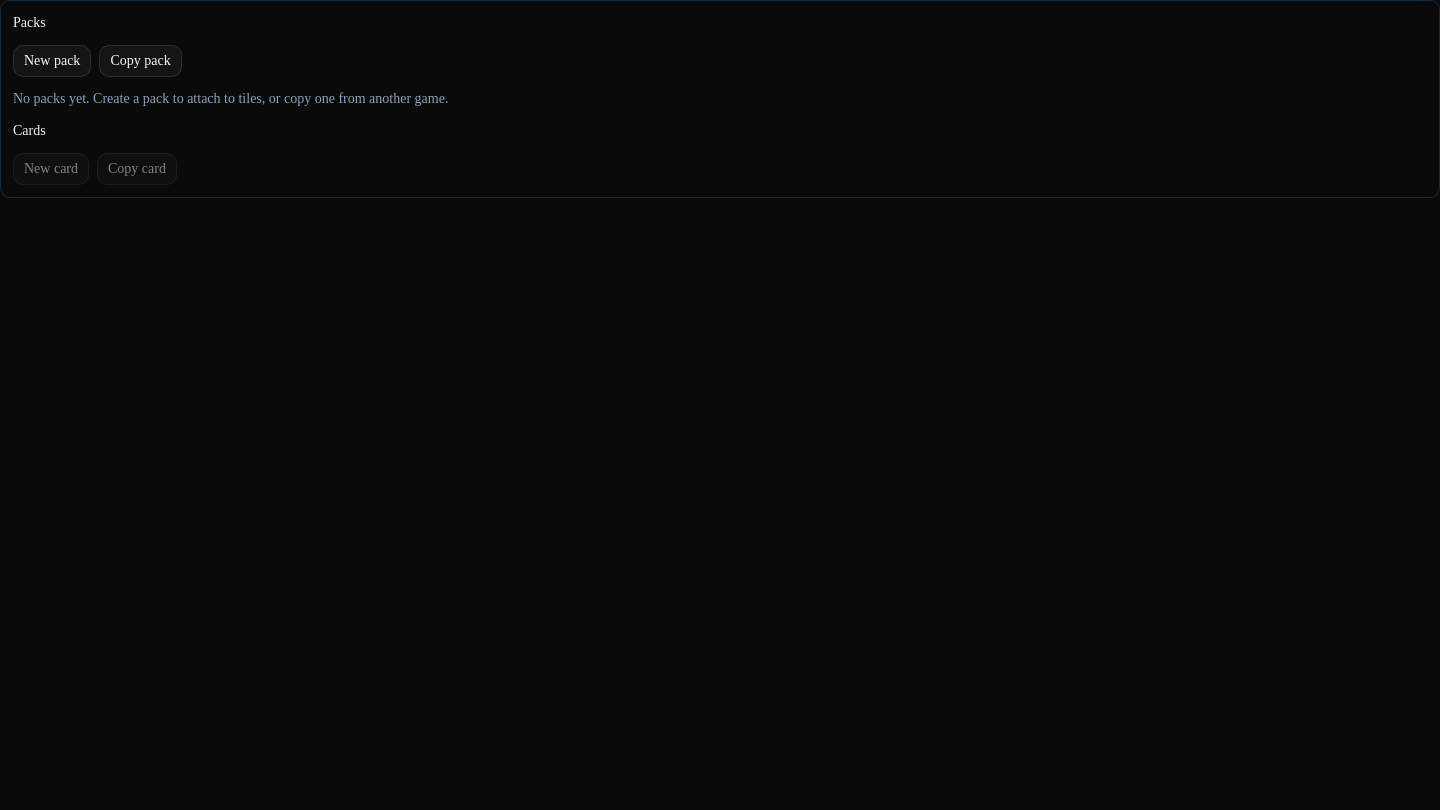
Test: PackEditor › shows game name plus pack name for game-owned copy sources
The width and height of the screenshot is (1440, 810).
Click the button "Copy pack" at (141, 61), box x1=99 y1=45 x2=182 y2=77
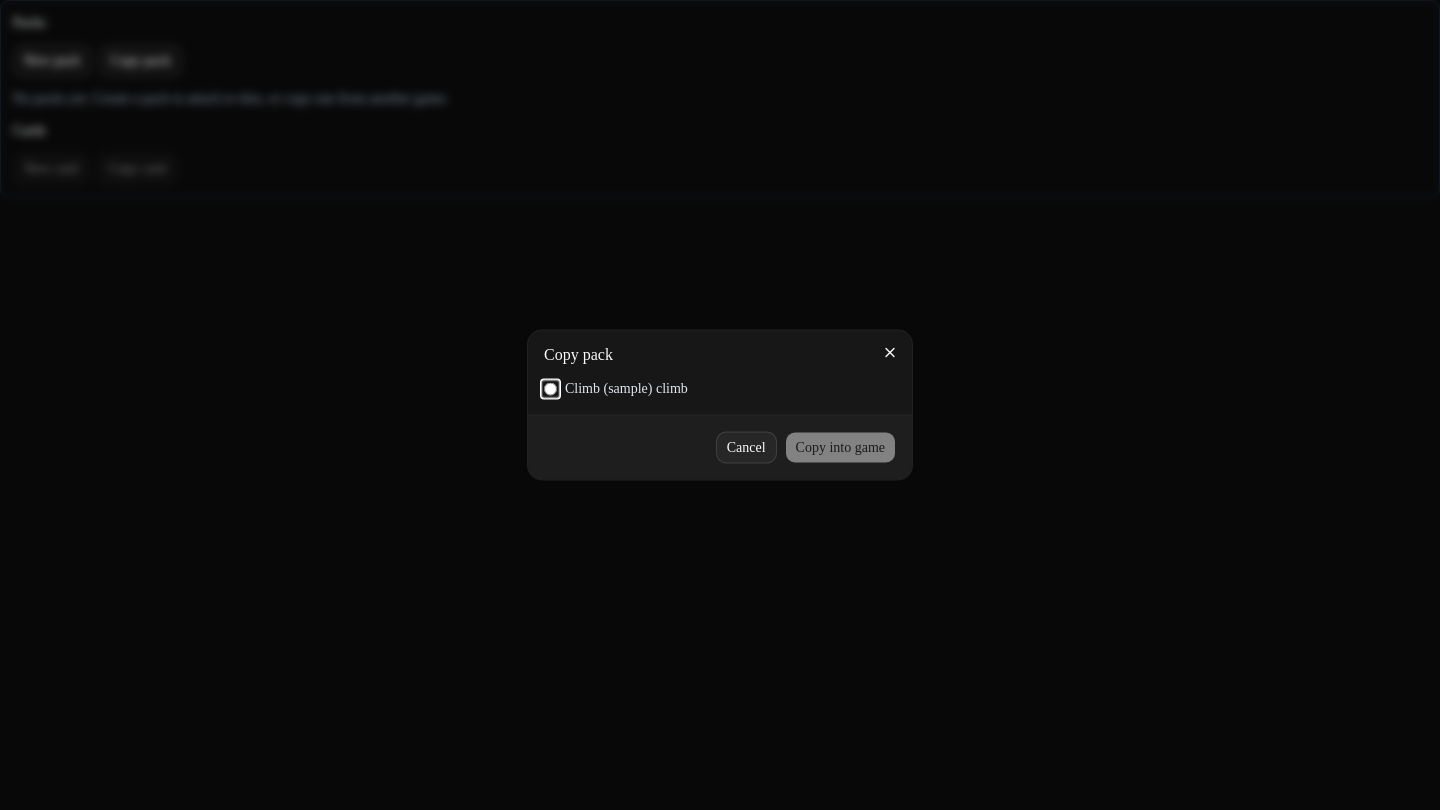
Expected: the radio button labelled "Climb (sample) climb" is shown, x1=544 y1=382 x2=557 y2=395
